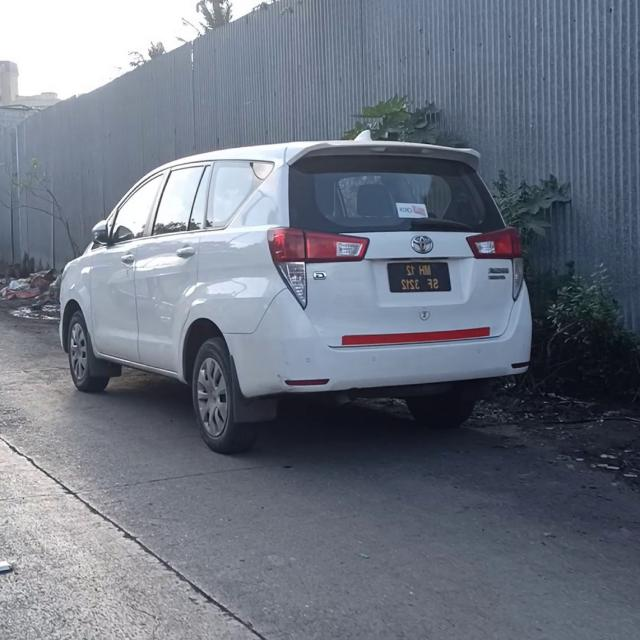license_plate: (385, 257, 451, 302)
